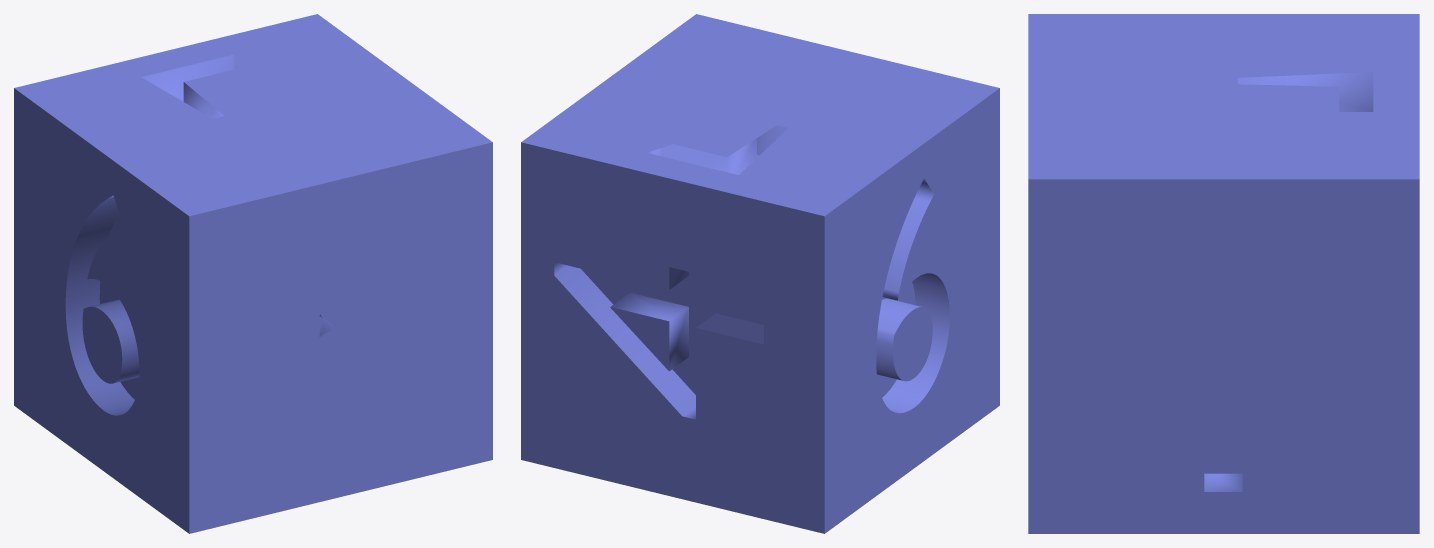
The picture shows the model from 3 angles, left to right: view 1: azimuth 30°, elevation 25°; view 2: azimuth 150°, elevation 25°; view 3: azimuth 270°, elevation 25°; orthographic projection. The views are drawn at different scales.
Visible parts, largest first — view 1: Cube; view 2: Cube; view 3: Cube.
Boxes of the visible parts, box(x1,y1,x2,y2) form: Cube: box(14, 14, 492, 533); Cube: box(521, 14, 999, 533); Cube: box(1028, 14, 1419, 533).
Size of the model in its own units: 200 by 200 by 200.
